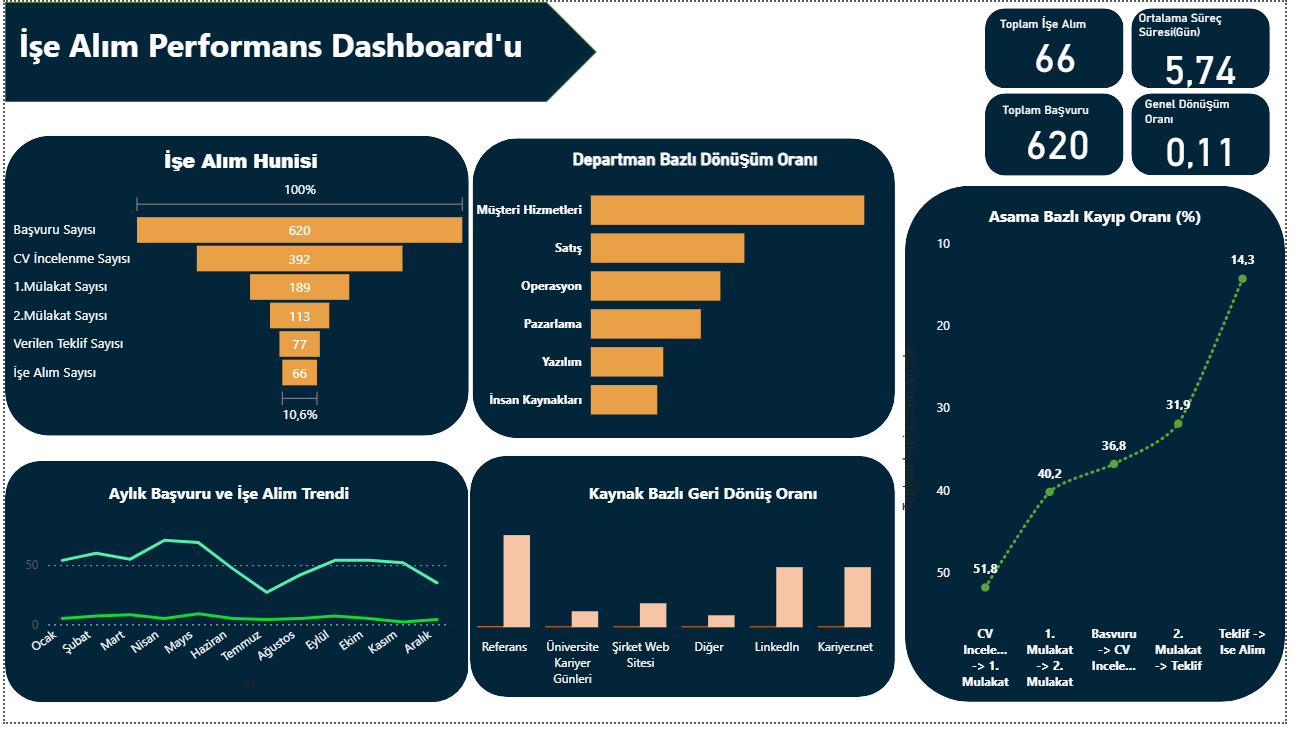

This screenshot's page, from the dashboard's own definition file:
{"tool":"powerbi","page":{"name":"1. sayfa","canvas":[1280,720],"ordinal":0},"visuals":[{"type":"shape","box":[980.4,91.7,138.8,82.5],"z":0},{"type":"shape","box":[980.4,5.8,138.8,80],"z":1000},{"type":"shape","box":[1126.2,5.8,138.8,80],"z":2000},{"type":"shape","box":[1126.2,91.7,138.8,82.1],"z":3000},{"type":"card","title":"Toplam Başvuru","fields":{"Values":["CountNonNull(recruitment_funnel.Aday_ID)"]},"box":[992.9,100.4,120.4,65],"z":4000},{"type":"card","title":"Toplam İşe Alım","fields":{"Values":["CountNonNull(recruitment_funnel.Ise_Alim_Tarihi)"]},"box":[990,13.8,120.4,64.2],"z":5000},{"type":"card","title":"Genel Dönüşüm Oranı","fields":{"Values":["recruitment_funnel.Donusum_Orani"]},"box":[1128.2,96.4,139.1,77.3],"z":6000},{"type":"card","title":"Ortalama Süreç Süresi(Gün)","fields":{"Values":["Avg(recruitment_funnel.Surec_Suresi_Gun)"]},"box":[1128.3,8.8,131.7,82.9],"z":7000},{"type":"shape","box":[0,133.8,463.8,300],"z":8000},{"type":"funnel","title":"İşe Alım Hunisi","fields":{"Y":["recruitment_funnel.Basvuru_Sayisi","recruitment_funnel.CVIncelemesi_Sayisi","recruitment_funnel.Mulakat1_Sayisi","recruitment_funnel.Mulakat2_Sayisi","recruitment_funnel.Teklif_Sayisi","recruitment_funnel.IseAlim_Sayisi"]},"box":[3.8,145,463.8,282.5],"z":9000},{"type":"shape","box":[467.5,136.2,422.5,300],"z":10000},{"type":"barChart","title":"Departman Bazlı Dönüşüm Oranı","fields":{"Category":["recruitment_funnel.Departman"],"Y":["recruitment_funnel.Donusum_Orani"]},"box":[465,146.2,450,287.5],"z":11000},{"type":"shape","box":[900,183.8,380,516.2],"z":12000},{"type":"shape","box":[0,458.6,463.6,241.4],"z":13000},{"type":"shape","box":[465,453.8,425,241.2],"z":14000},{"type":"clusteredColumnChart","title":"Kaynak Bazlı Başarı Oranı","fields":{"Y":["recruitment_funnel.KaynakBasari","CountNonNull(recruitment_funnel.Ise_Alim_Tarihi)"],"Category":["recruitment_funnel.Basvuru_Kaynagi"]},"box":[430,491.2,470,201.2],"z":15000},{"type":"textbox","box":[578.3,475,265,43.3],"z":16000},{"type":"lineChart","fields":{"Category":["recruitment_funnel.Basvuru_Tarihi.Varyasyon.Tarih Hiyerarşisi.Ay"],"Y":["recruitment_funnel.Basvuru_Sayisi","recruitment_funnel.IseAlim_Sayisi"]},"box":[8.6,514.3,442.1,178.6],"z":17000},{"type":"textbox","box":[99.3,475,261.4,43.6],"z":18000},{"type":"lineChart","fields":{"Category":["asamalar_kaybi.asama_gecis"],"Y":["Sum(asamalar_kaybi.kayip_oran_yuzde)"]},"box":[890,227.5,382.5,467.5],"z":19000},{"type":"shape","box":[0,0,591.7,100],"z":20000},{"type":"textbox","box":[8.3,16.7,601.7,61.7],"z":21000},{"type":"textbox","box":[960,197.5,260,42.5],"z":21001}]}

Visuals, with their boxes in screenshot pixels (x1, y1, x2, y2), scaled from the page's 1280x720 canvas onto the 1305x732 screenshot:
shape: [left=1000, top=93, right=1141, bottom=177]
shape: [left=1000, top=6, right=1141, bottom=87]
shape: [left=1148, top=6, right=1290, bottom=87]
shape: [left=1148, top=93, right=1290, bottom=177]
"Toplam Başvuru" card: [left=1012, top=102, right=1135, bottom=168]
"Toplam İşe Alım" card: [left=1009, top=14, right=1132, bottom=79]
"Genel Dönüşüm Oranı" card: [left=1150, top=98, right=1292, bottom=177]
"Ortalama Süreç Süresi(Gün)" card: [left=1150, top=9, right=1285, bottom=93]
shape: [left=0, top=136, right=473, bottom=441]
"İşe Alım Hunisi" funnel: [left=4, top=147, right=477, bottom=435]
shape: [left=477, top=138, right=907, bottom=443]
"Departman Bazlı Dönüşüm Oranı" barChart: [left=474, top=149, right=933, bottom=441]
shape: [left=918, top=187, right=1304, bottom=712]
shape: [left=0, top=466, right=473, bottom=712]
shape: [left=474, top=461, right=907, bottom=707]
"Kaynak Bazlı Başarı Oranı" clusteredColumnChart: [left=438, top=499, right=918, bottom=704]
textbox: [left=590, top=483, right=860, bottom=527]
lineChart - recruitment_funnel.Basvuru_Tarihi.Varyasyon.Tarih Hiyerarşisi.Ay x recruitment_funnel.Basvuru_Sayisi: [left=9, top=523, right=460, bottom=704]
textbox: [left=101, top=483, right=368, bottom=527]
lineChart - asamalar_kaybi.asama_gecis x Sum(asamalar_kaybi.kayip_oran_yuzde): [left=907, top=231, right=1297, bottom=707]
shape: [left=0, top=0, right=603, bottom=102]
textbox: [left=8, top=17, right=622, bottom=80]
textbox: [left=979, top=201, right=1244, bottom=244]
